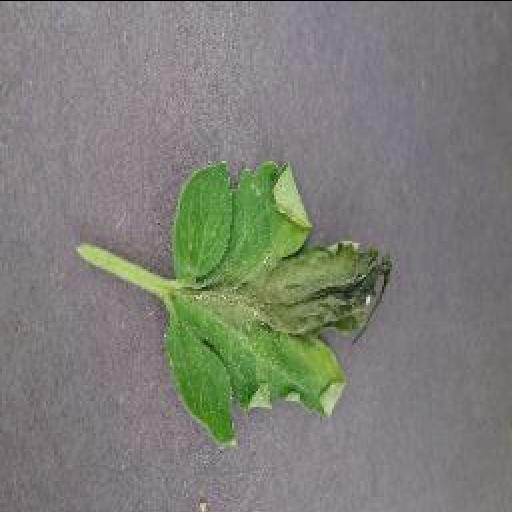disease_tomato: (158, 154, 398, 444)
